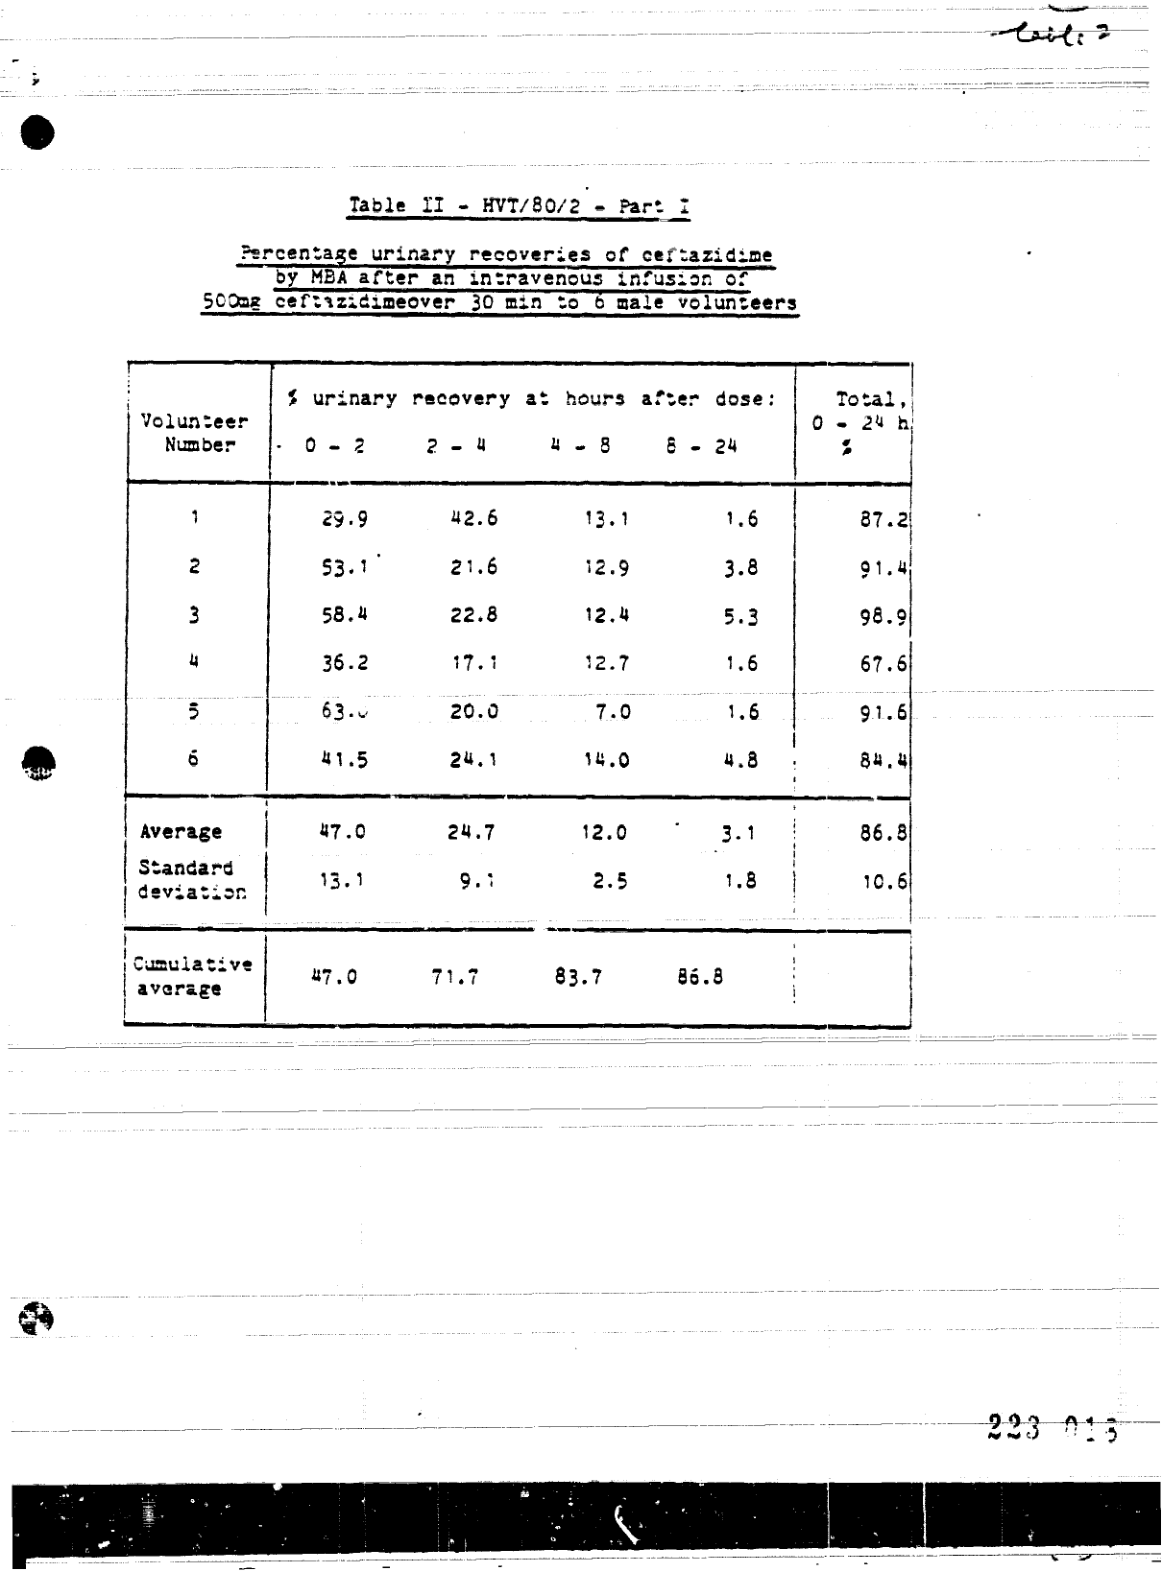partial_lined_merged_cells: (122, 358, 917, 1035)
